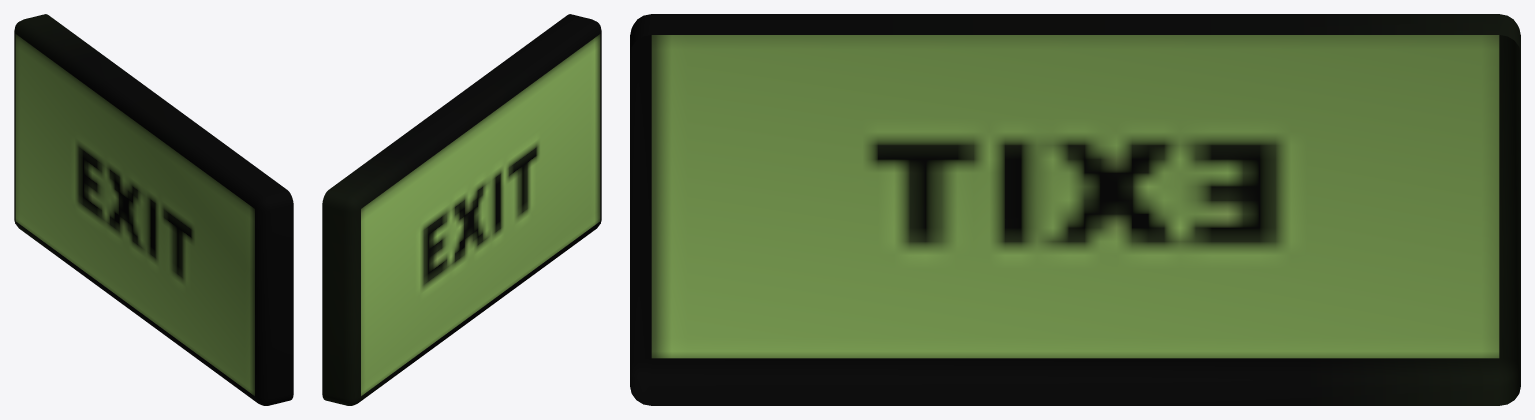
Rendered from Exit.fbx.
3 renders of one model, left to right at view 1: azimuth 30°, elevation 25°; view 2: azimuth 150°, elevation 25°; view 3: azimuth 270°, elevation 25°, orthographic. The views are drawn at different scales.
Parts seen in each view (by area): view 1: Exit; view 2: Exit; view 3: Exit.
Part boxes in pixels (x1=…): Exit: x1=14, y1=14, x2=293, y2=405; Exit: x1=322, y1=14, x2=601, y2=405; Exit: x1=630, y1=14, x2=1520, y2=405.
Size of the model in its own units: 0.0332 by 0.4457 by 0.2049.
